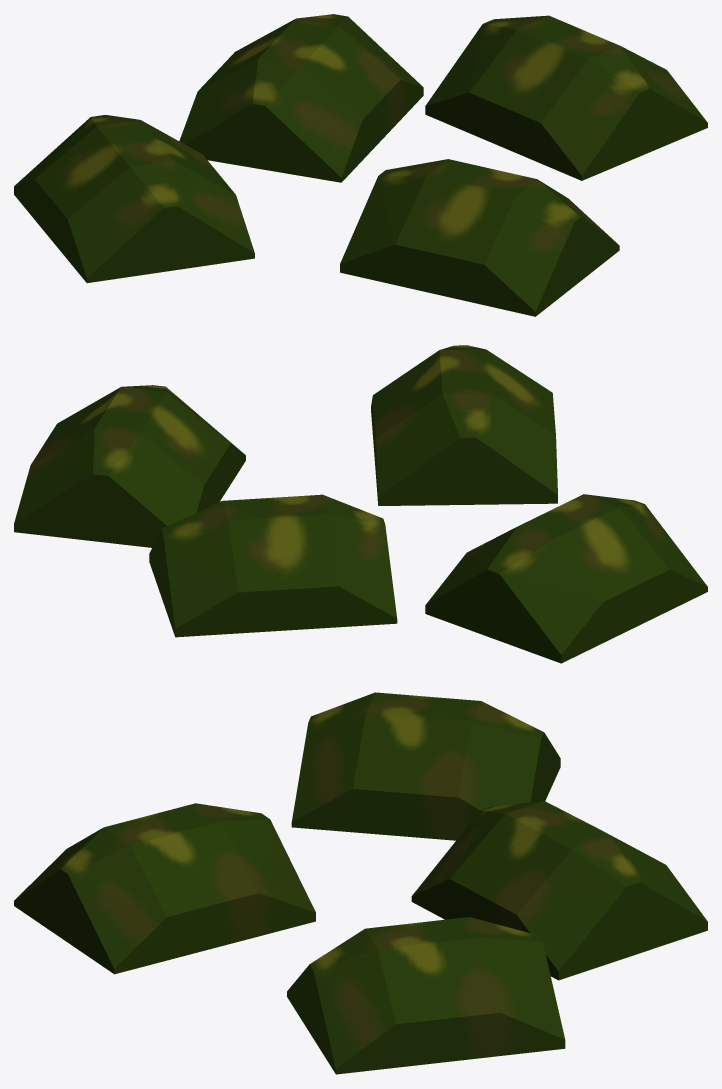
The model's file is CDDope.fbx.
The picture shows the model from 3 angles, top to bottom: view 1: azimuth 30°, elevation 25°; view 2: azimuth 150°, elevation 25°; view 3: azimuth 270°, elevation 25°; orthographic projection. The views are drawn at different scales.
Visible parts, largest first — view 1: Dope; view 2: Dope; view 3: Dope.
Boxes of the visible parts, x1,y1,x2,y2 form: Dope: (14,14,707,316); Dope: (14,345,707,663); Dope: (14,692,707,1074).
Size of the model in its own units: 0.1497 by 0.0193 by 0.1346.
